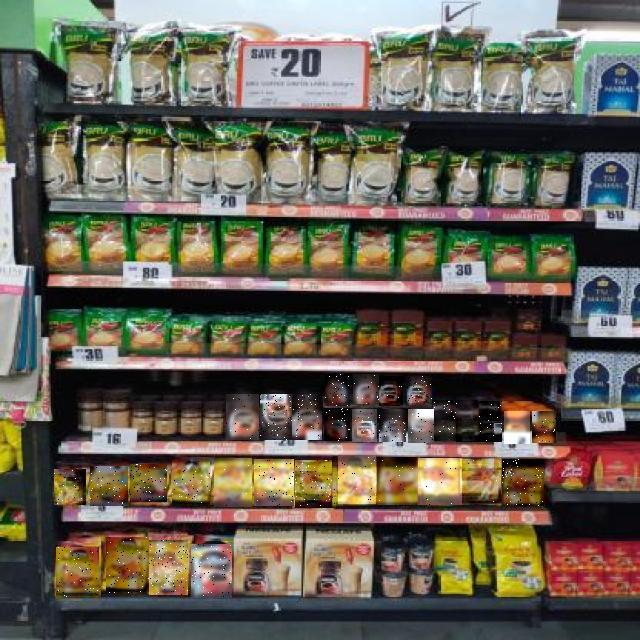Coffee: (106, 538, 149, 594), (191, 544, 232, 598), (56, 548, 99, 598), (149, 540, 188, 595), (418, 458, 462, 505), (377, 457, 420, 505), (460, 459, 503, 505), (502, 459, 544, 506), (296, 460, 336, 508), (254, 459, 294, 506), (214, 458, 252, 507), (338, 456, 376, 504), (172, 458, 210, 506), (90, 466, 128, 506), (226, 394, 259, 440), (260, 394, 292, 440), (130, 464, 167, 502), (293, 395, 323, 441), (54, 469, 86, 505), (379, 409, 406, 442), (408, 409, 434, 443), (325, 408, 351, 441), (504, 411, 530, 444), (326, 374, 352, 406), (352, 409, 377, 442), (353, 374, 379, 404), (380, 376, 406, 406), (406, 377, 432, 407), (532, 411, 556, 443), (456, 423, 481, 443), (434, 400, 458, 420), (480, 401, 504, 421), (434, 422, 458, 441), (480, 423, 502, 442), (456, 400, 478, 418)
